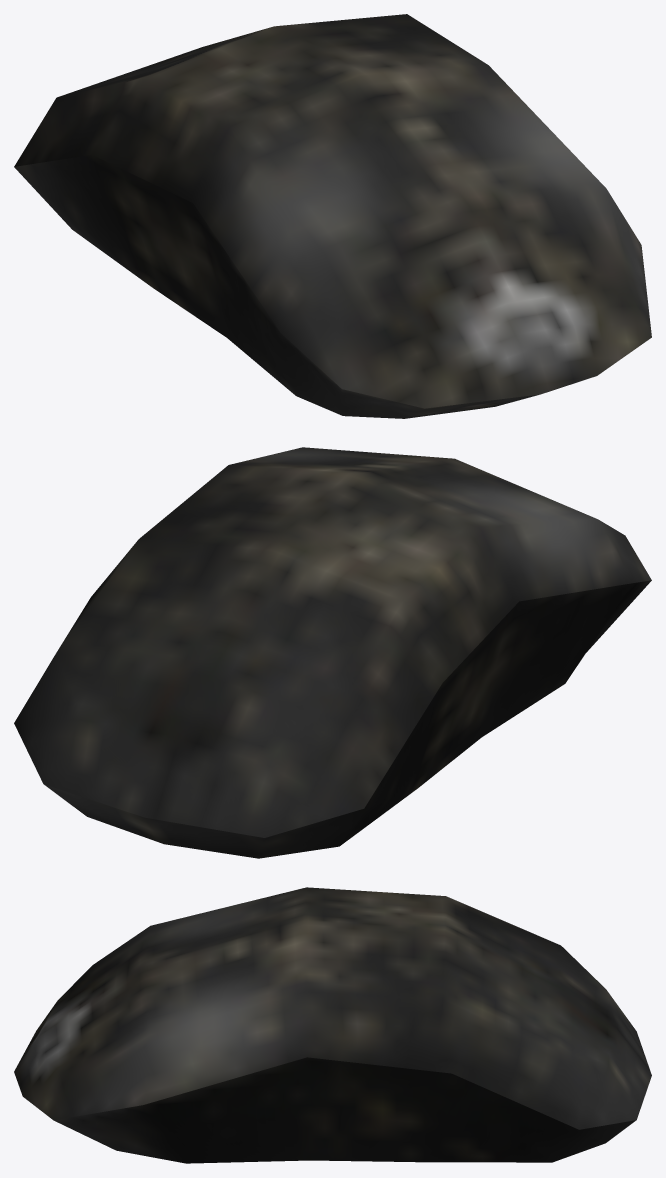
File: Mouse.FBX
3 renders of one model, top to bottom at view 1: azimuth 30°, elevation 25°; view 2: azimuth 150°, elevation 25°; view 3: azimuth 270°, elevation 25°, orthographic. The views are drawn at different scales.
Parts seen in each view (by area): view 1: Mouse; view 2: Mouse; view 3: Mouse.
Part boxes in pixels (box(x1,y1,x2,y2)): Mouse: box(14, 14, 651, 418); Mouse: box(14, 447, 651, 858); Mouse: box(14, 887, 651, 1163).
Size of the model in its own units: 10.09 by 6.21 by 19.1.
